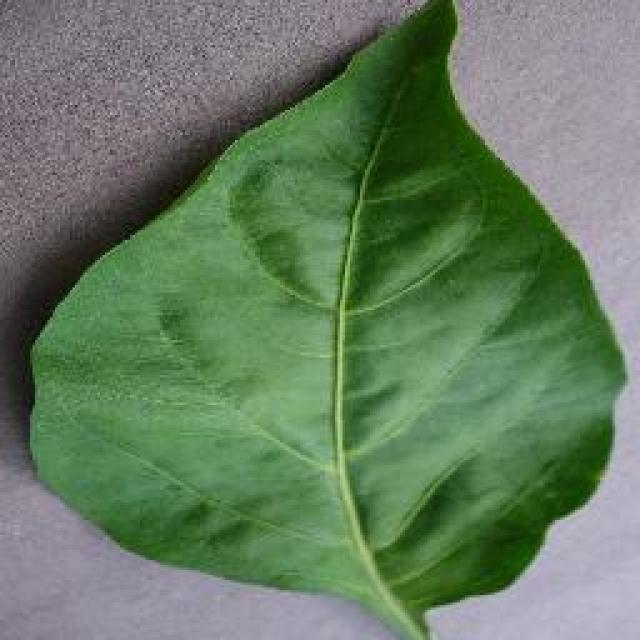Chilli_Healthy: (25, 0, 627, 638)
